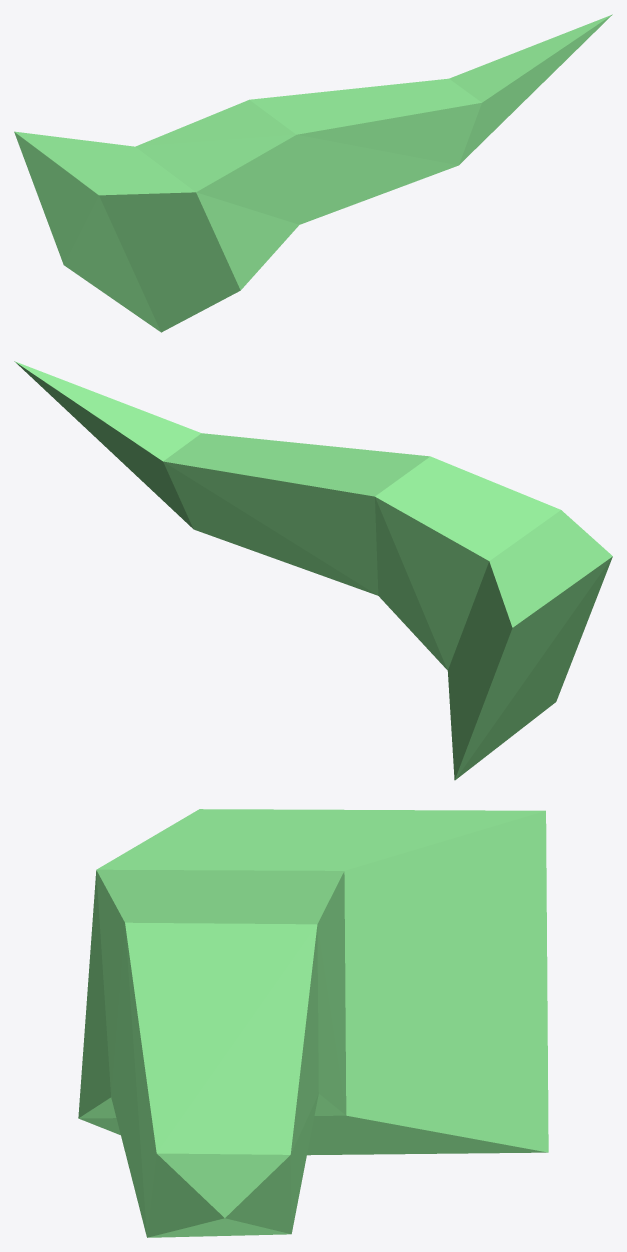
Rendered from Troll Stalagmite 5.FBX.
3 views of the same model, one above another, from view 1: azimuth 30°, elevation 25°; view 2: azimuth 150°, elevation 25°; view 3: azimuth 270°, elevation 25° (orthographic). The views are drawn at different scales.
Parts seen in each view (by area): view 1: Object001; view 2: Object001; view 3: Object001.
Part boxes in pixels (<box>): Object001: <box>14,14,612,332</box>; Object001: <box>14,361,612,780</box>; Object001: <box>78,809,548,1237</box>.
Size of the model in its own units: 350 by 126 by 137.
